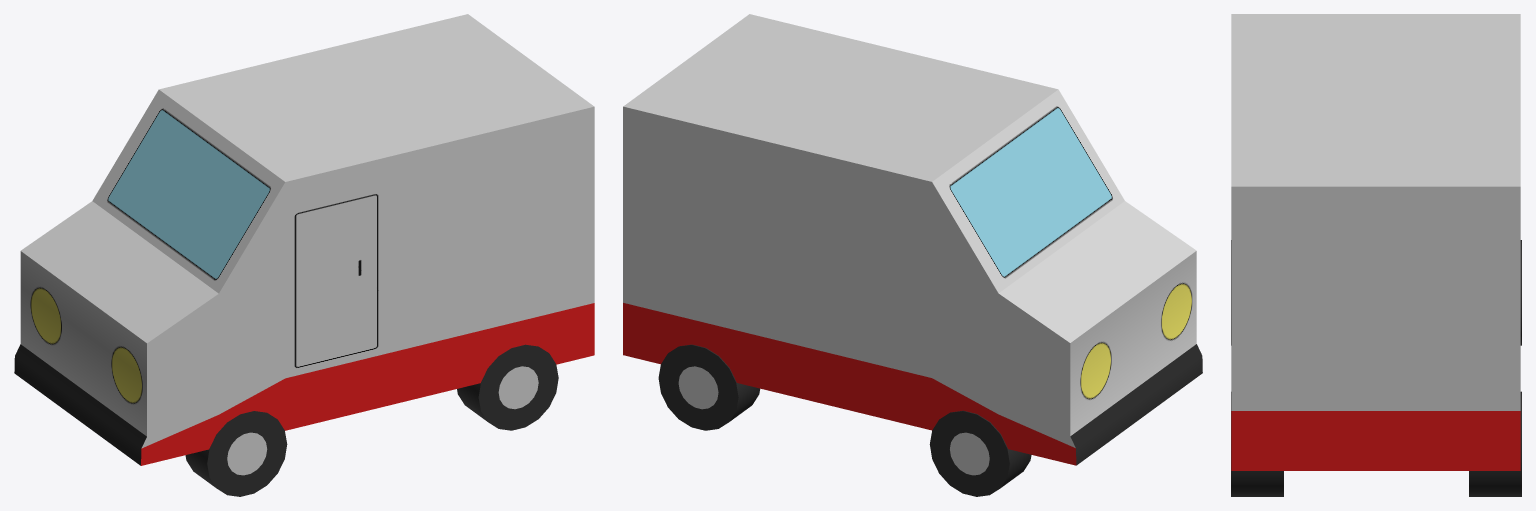
The model's file is SM_Truck.FBX.
The picture shows the model from 3 angles, left to right: view 1: azimuth 30°, elevation 25°; view 2: azimuth 150°, elevation 25°; view 3: azimuth 270°, elevation 25°; orthographic projection. The views are drawn at different scales.
Parts seen in each view (by area): view 1: deliverytruck; view 2: deliverytruck; view 3: deliverytruck.
Boxes of the visible parts, left/top/right/bottom form: deliverytruck: left=14, top=14, right=594, bottom=496; deliverytruck: left=623, top=14, right=1202, bottom=496; deliverytruck: left=1231, top=14, right=1521, bottom=496.
Size of the model in its own units: 547 by 350 by 266.
